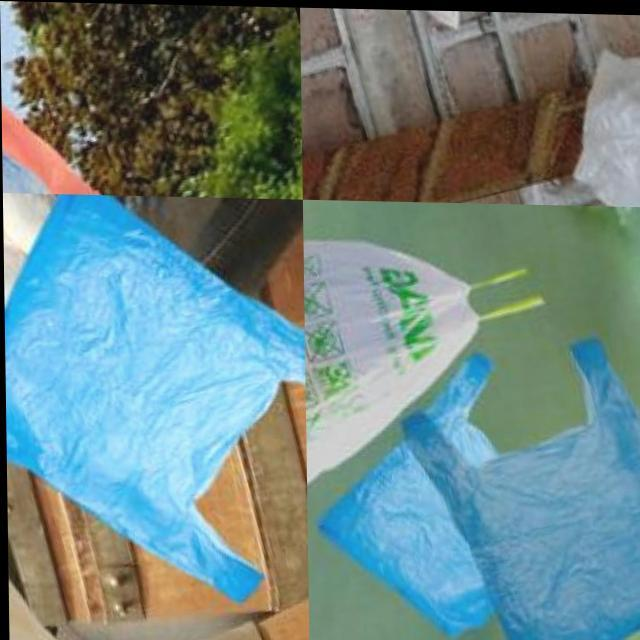Single-layer Plastic: (6, 196, 304, 601), (319, 338, 640, 640), (471, 338, 640, 640), (305, 242, 479, 479), (510, 51, 640, 206)
